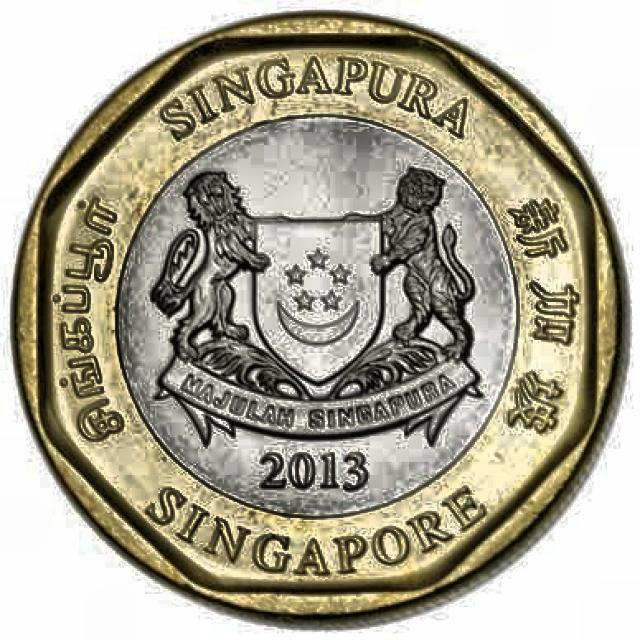coin: (15, 13, 622, 614)
